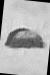X1: (1, 0, 50, 74)
